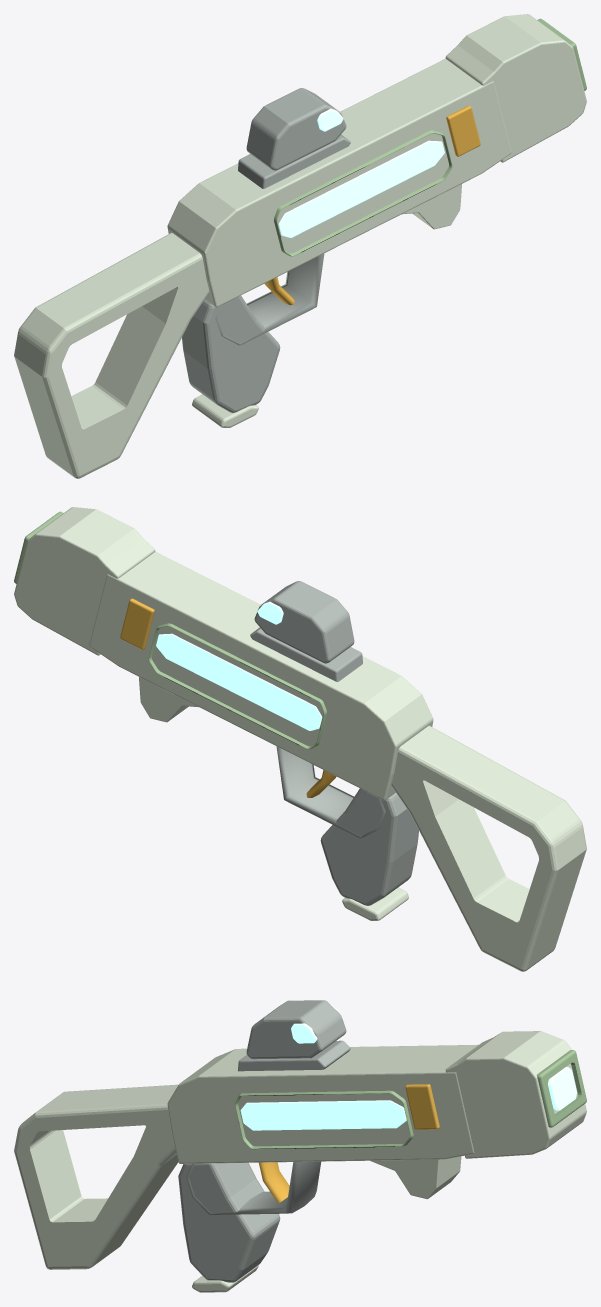
3 renders of one model, top to bottom at view 1: azimuth 30°, elevation 25°; view 2: azimuth 150°, elevation 25°; view 3: azimuth 330°, elevation 25°, orthographic.
Visible parts, largest first — view 1: item.lasergun_light.receiver__LOD0, item.lasergun_light.stock_frame__LOD0, item.lasergun_light.front_module__LOD0, item.lasergun_light.grip__LOD0, item.lasergun_light.top_sight__LOD0, item.lasergun_light.energy_core__LOD0, item.lasergun_light.trigger_guard__LOD0, item.lasergun_light.top_rail__LOD0, item.lasergun_light.energy_window_frame__LOD0, item.lasergun_light.foregrip__LOD0, item.lasergun_light.control_button__LOD0, item.lasergun_light.grip_cap__LOD0; view 2: item.lasergun_light.receiver__LOD0, item.lasergun_light.stock_frame__LOD0, item.lasergun_light.front_module__LOD0, item.lasergun_light.grip__LOD0, item.lasergun_light.top_sight__LOD0, item.lasergun_light.energy_core__LOD0, item.lasergun_light.trigger_guard__LOD0, item.lasergun_light.top_rail__LOD0, item.lasergun_light.energy_window_frame__LOD0, item.lasergun_light.foregrip__LOD0, item.lasergun_light.control_button__001__LOD0, item.lasergun_light.grip_cap__LOD0; view 3: item.lasergun_light.receiver__LOD0, item.lasergun_light.stock_frame__LOD0, item.lasergun_light.front_module__LOD0, item.lasergun_light.grip__LOD0, item.lasergun_light.energy_core__LOD0, item.lasergun_light.top_sight__LOD0, item.lasergun_light.trigger_guard__LOD0, item.lasergun_light.foregrip__LOD0, item.lasergun_light.muzzle_frame__LOD0, item.lasergun_light.top_rail__LOD0, item.lasergun_light.energy_window_frame__LOD0, item.lasergun_light.control_button__LOD0 (+4 smaller).
Part boxes in pixels (bbox=[...]): item.lasergun_light.receiver__LOD0: bbox=[167, 58, 511, 307]; item.lasergun_light.stock_frame__LOD0: bbox=[14, 232, 209, 478]; item.lasergun_light.front_module__LOD0: bbox=[445, 14, 586, 162]; item.lasergun_light.grip__LOD0: bbox=[182, 295, 280, 412]; item.lasergun_light.top_sight__LOD0: bbox=[246, 88, 346, 170]; item.lasergun_light.energy_core__LOD0: bbox=[278, 140, 444, 237]; item.lasergun_light.trigger_guard__LOD0: bbox=[215, 253, 324, 345]; item.lasergun_light.top_rail__LOD0: bbox=[238, 134, 350, 188]; item.lasergun_light.energy_window_frame__LOD0: bbox=[274, 130, 452, 256]; item.lasergun_light.foregrip__LOD0: bbox=[402, 184, 461, 229]; item.lasergun_light.control_button__LOD0: bbox=[446, 105, 480, 156]; item.lasergun_light.grip_cap__LOD0: bbox=[192, 394, 258, 427]; item.lasergun_light.receiver__LOD0: bbox=[89, 551, 433, 800]; item.lasergun_light.stock_frame__LOD0: bbox=[391, 725, 586, 971]; item.lasergun_light.front_module__LOD0: bbox=[14, 507, 155, 655]; item.lasergun_light.grip__LOD0: bbox=[320, 788, 418, 905]; item.lasergun_light.top_sight__LOD0: bbox=[254, 581, 354, 663]; item.lasergun_light.energy_core__LOD0: bbox=[156, 633, 322, 730]; item.lasergun_light.trigger_guard__LOD0: bbox=[276, 746, 385, 838]; item.lasergun_light.top_rail__LOD0: bbox=[250, 627, 362, 681]; item.lasergun_light.energy_window_frame__LOD0: bbox=[148, 623, 326, 749]; item.lasergun_light.foregrip__LOD0: bbox=[139, 677, 198, 722]; item.lasergun_light.control_button__001__LOD0: bbox=[120, 598, 154, 649]; item.lasergun_light.grip_cap__LOD0: bbox=[342, 887, 408, 920]; item.lasergun_light.receiver__LOD0: bbox=[167, 1044, 478, 1163]; item.lasergun_light.stock_frame__LOD0: bbox=[14, 1084, 178, 1269]; item.lasergun_light.front_module__LOD0: bbox=[445, 1031, 586, 1158]; item.lasergun_light.grip__LOD0: bbox=[178, 1162, 280, 1282]; item.lasergun_light.energy_core__LOD0: bbox=[240, 1100, 406, 1130]; item.lasergun_light.top_sight__LOD0: bbox=[246, 1000, 346, 1059]; item.lasergun_light.trigger_guard__LOD0: bbox=[186, 1161, 321, 1214]; item.lasergun_light.foregrip__LOD0: bbox=[370, 1156, 461, 1199]; item.lasergun_light.muzzle_frame__LOD0: bbox=[536, 1050, 586, 1127]; item.lasergun_light.top_rail__LOD0: bbox=[238, 1040, 350, 1071]; item.lasergun_light.energy_window_frame__LOD0: bbox=[235, 1090, 413, 1149]; item.lasergun_light.control_button__LOD0: bbox=[405, 1084, 439, 1129].
Size of the model in its own units: 1.31 by 0.7579 by 0.184.
